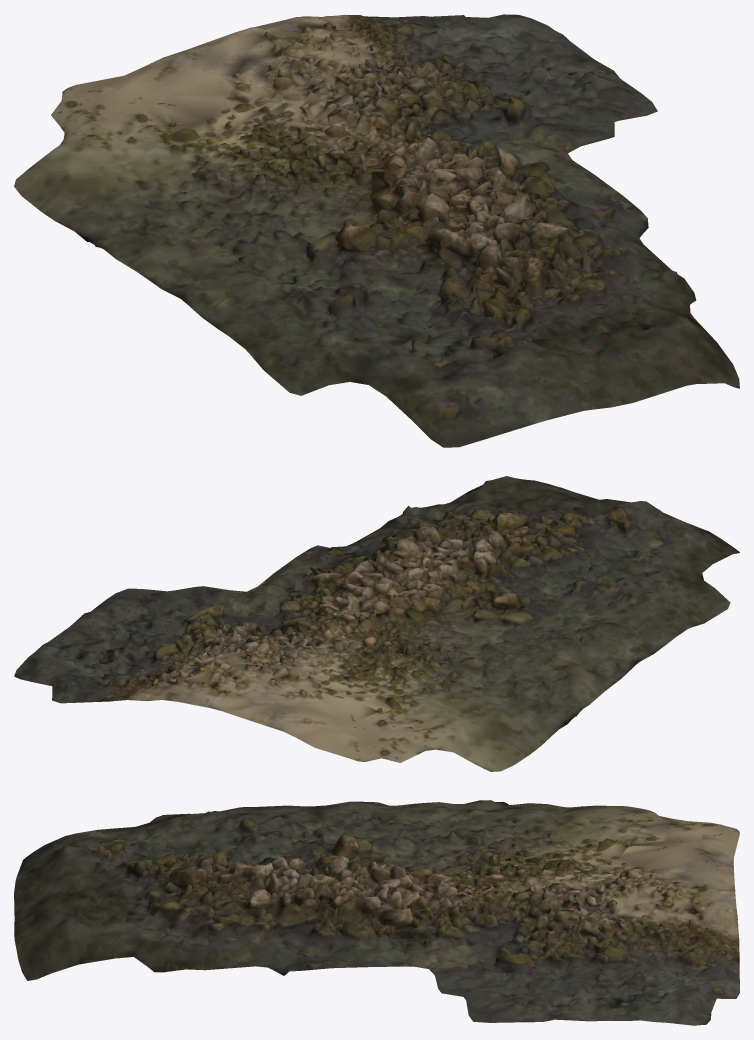
Rendered from coast_rocks_03.glb.
The picture shows the model from 3 angles, top to bottom: view 1: azimuth 30°, elevation 25°; view 2: azimuth 150°, elevation 25°; view 3: azimuth 270°, elevation 25°; orthographic projection. The views are drawn at different scales.
Parts seen in each view (by area): view 1: coast_rocks_03; view 2: coast_rocks_03; view 3: coast_rocks_03.
Boxes of the visible parts, x1,y1,x2,y2 form: coast_rocks_03: (14,14,739,447); coast_rocks_03: (14,476,739,771); coast_rocks_03: (14,800,739,1025).
Size of the model in its own units: 21.12 by 3.2 by 28.27.
1 material, 1 textured.
